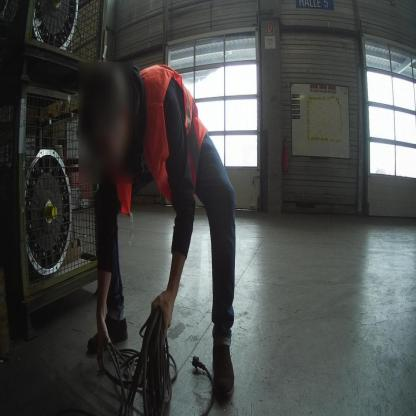stillage: (2, 80, 109, 349), (2, 1, 117, 80)
